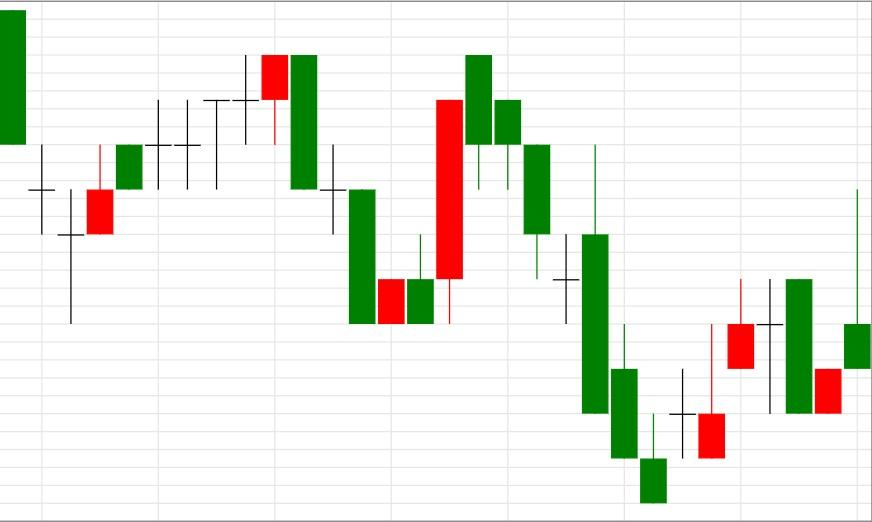bearish_engulfing_fall: (57, 54, 318, 324)
